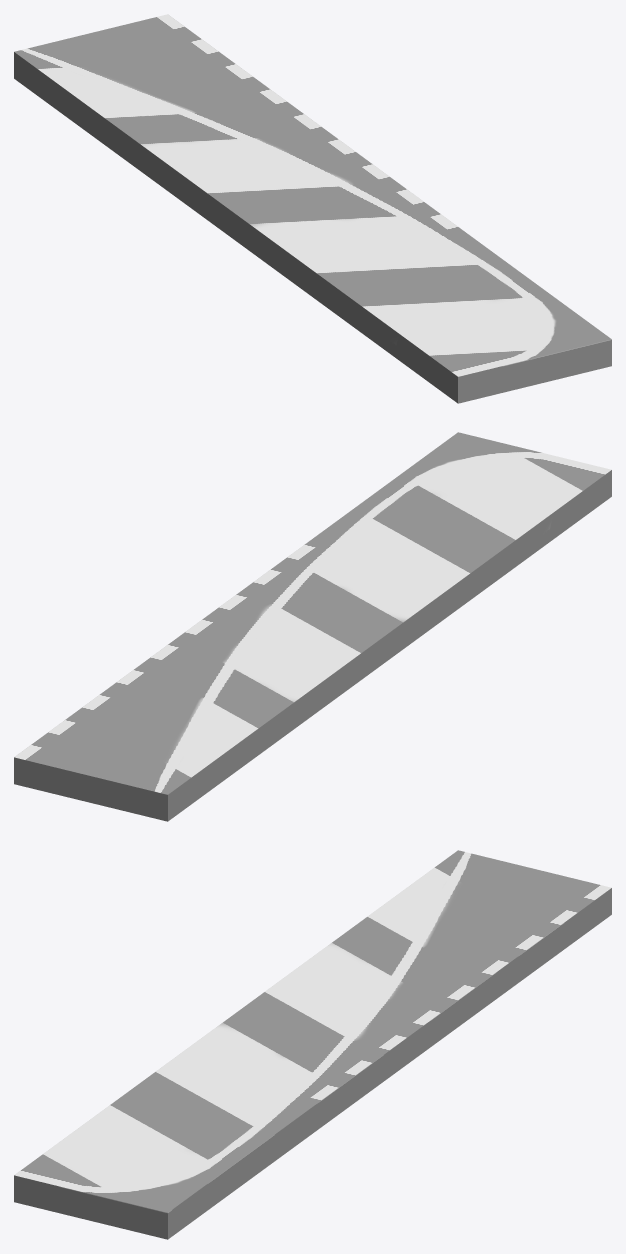
Rendered from sm_mergeRoad_GEO.fbx.
3 renders of one model, top to bottom at view 1: azimuth 30°, elevation 25°; view 2: azimuth 150°, elevation 25°; view 3: azimuth 330°, elevation 25°, orthographic.
Visible parts, largest first — view 1: mergeRoad_GEO; view 2: mergeRoad_GEO; view 3: mergeRoad_GEO.
Part boxes in pixels (<box>): mergeRoad_GEO: <box>14,14,611,403</box>; mergeRoad_GEO: <box>14,432,611,821</box>; mergeRoad_GEO: <box>14,850,611,1239</box>.
Bounding box in the file's own units: 6 × 1 × 30.
